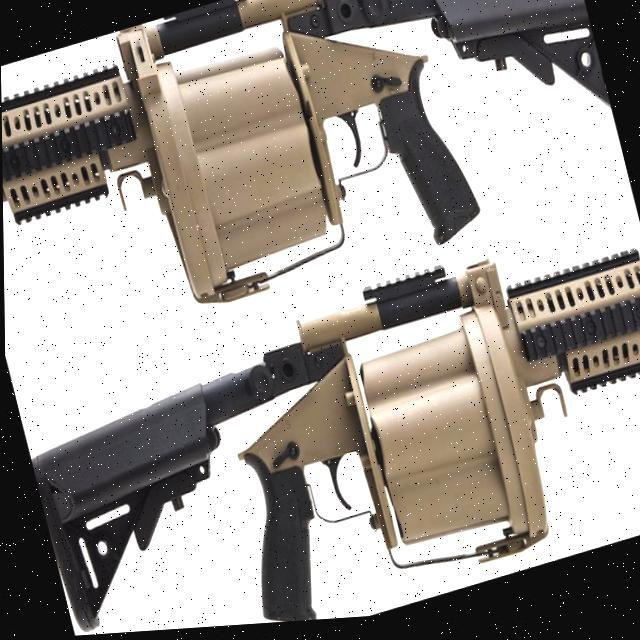rocket: (10, 207, 640, 640), (0, 0, 632, 375), (226, 133, 254, 146)
